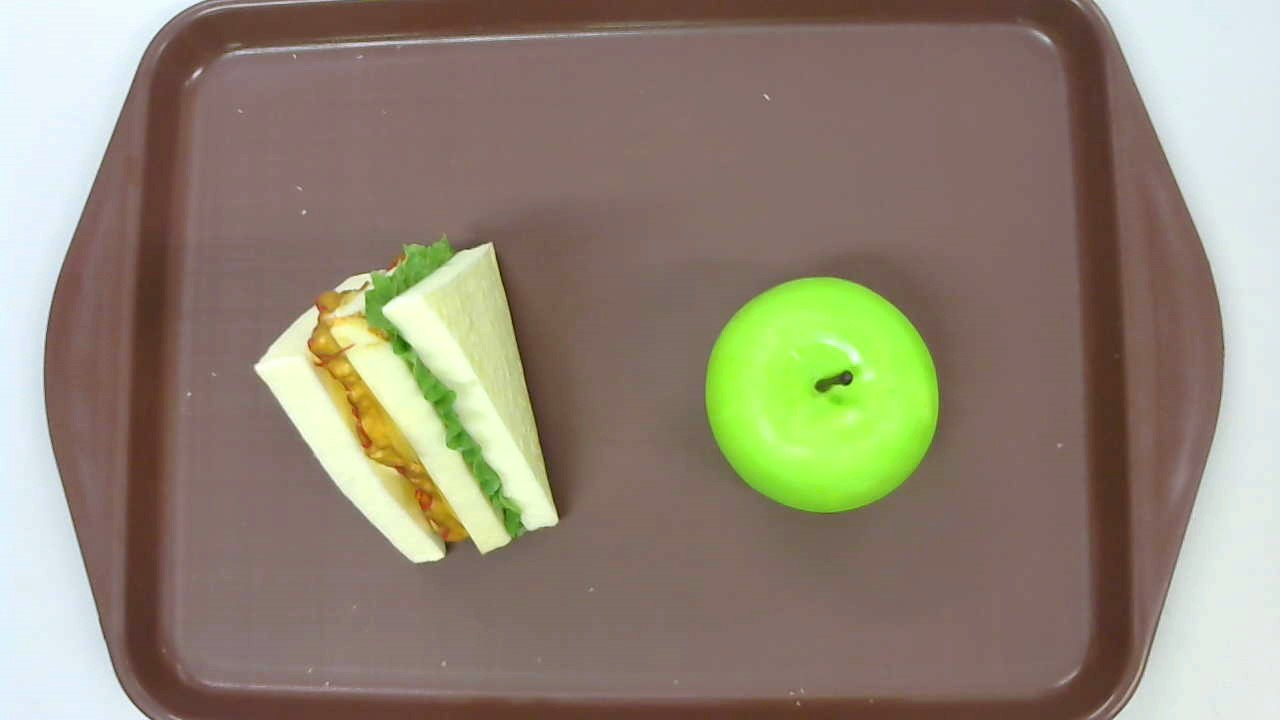green apple: (703, 274, 941, 515)
sandwich: (253, 234, 560, 567)
